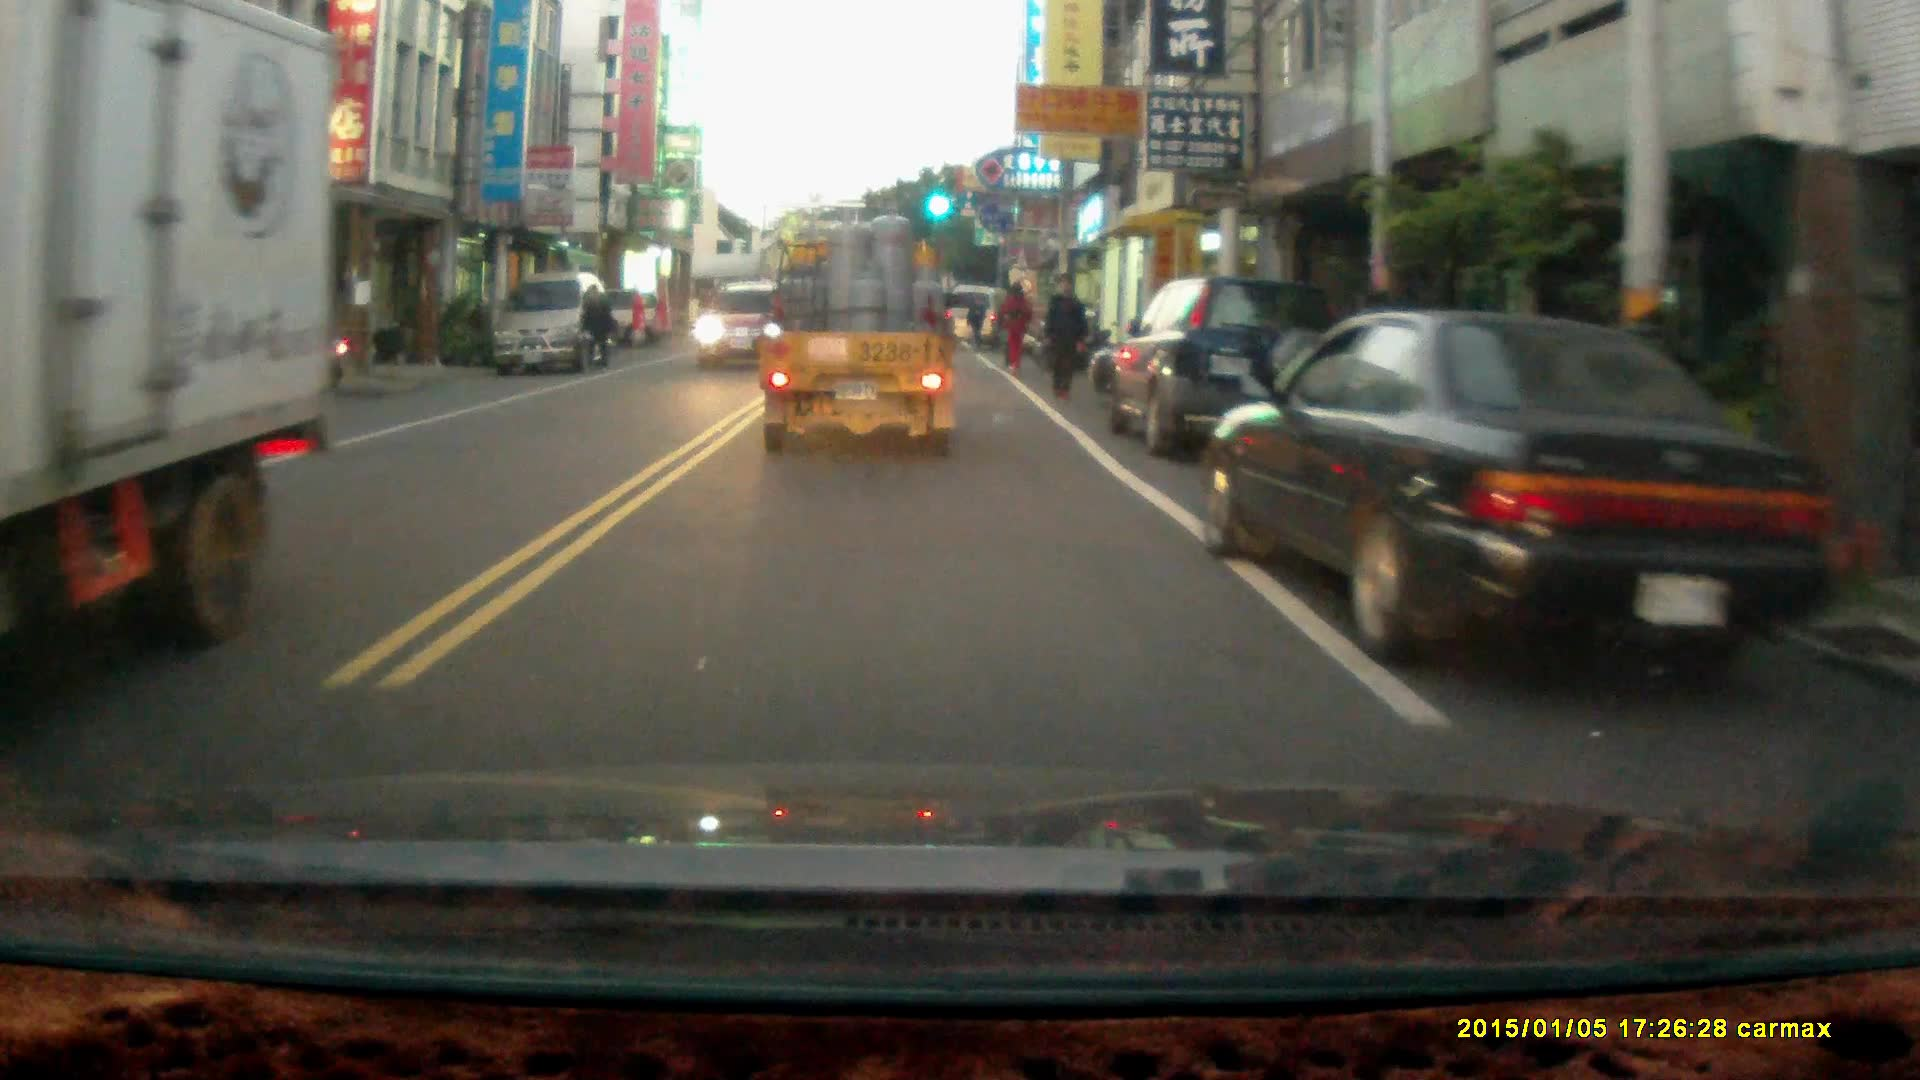pedestrian: (1038, 268, 1088, 400), (994, 277, 1031, 371), (577, 281, 613, 367), (967, 288, 987, 344)
vehicle: (1203, 306, 1813, 668), (1, 7, 331, 672), (755, 195, 962, 463), (1109, 273, 1343, 461), (492, 270, 611, 375), (690, 279, 777, 368)
